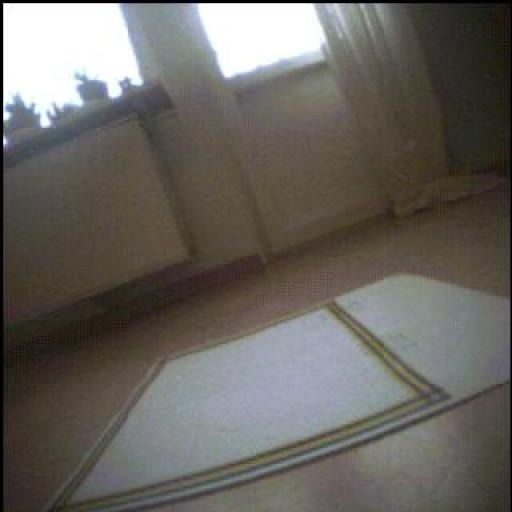Pad: (51, 277, 510, 512), (337, 276, 511, 403)
